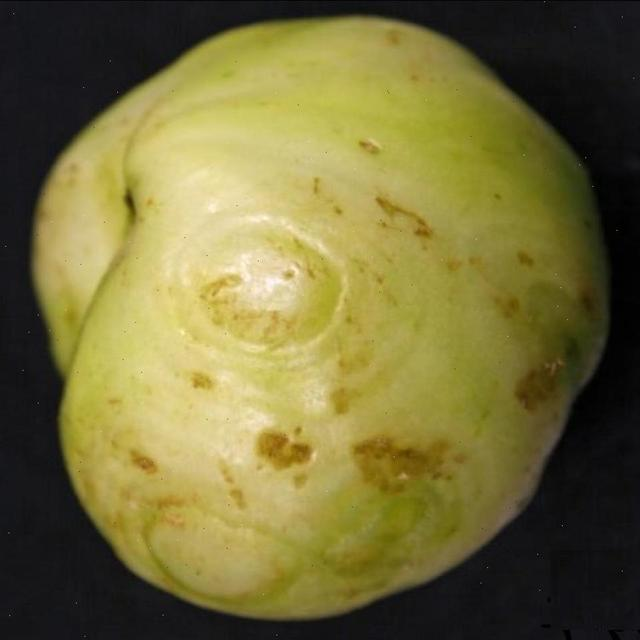Spotted wilt Virus Fruit: (122, 203, 419, 587)
